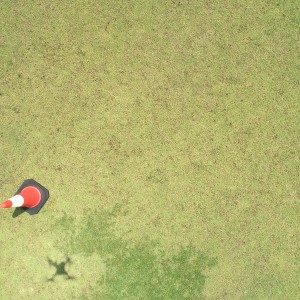traffic cone: (1, 179, 49, 215)
